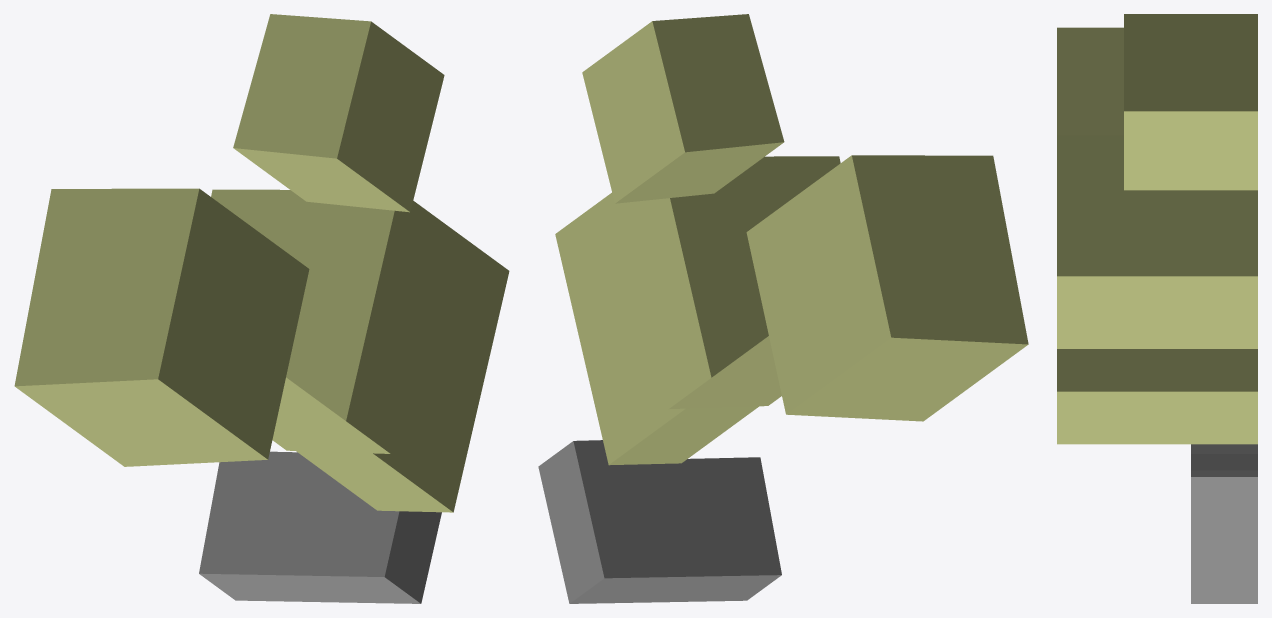
3 views of the same model, side by side, from view 1: azimuth 30°, elevation 25°; view 2: azimuth 150°, elevation 25°; view 3: azimuth 270°, elevation 25° (orthographic). The views are drawn at different scales.
Visible parts, largest first — view 1: 0_1_0_1_3_3_3_2_0_3; view 2: 0_1_0_1_3_3_3_2_0_3; view 3: 0_1_0_1_3_3_3_2_0_3.
Part boxes in pixels (x1,y1,x2,y2): 0_1_0_1_3_3_3_2_0_3: (14, 14, 509, 603); 0_1_0_1_3_3_3_2_0_3: (538, 14, 1028, 603); 0_1_0_1_3_3_3_2_0_3: (1057, 14, 1257, 603).
Bounding box in the file's own units: 19.01 × 26.67 × 9.
